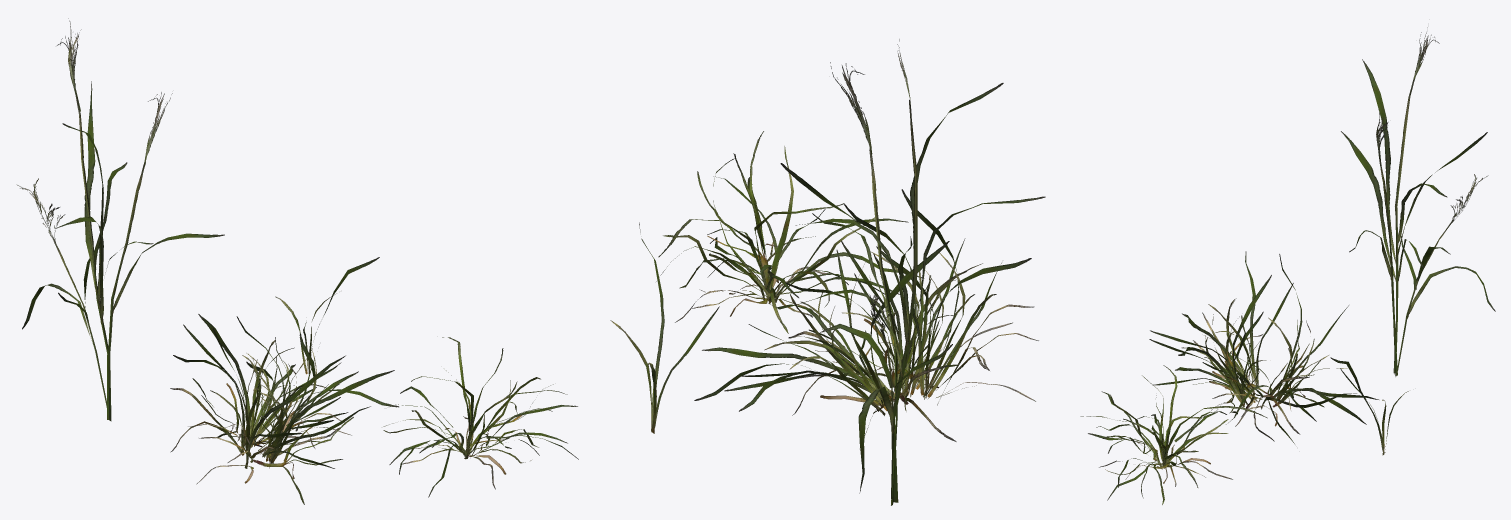
File: grass_medium_01.glb
3 views of the same model, side by side, from view 1: azimuth 30°, elevation 25°; view 2: azimuth 150°, elevation 25°; view 3: azimuth 270°, elevation 25° (orthographic). The views are drawn at different scales.
Visible parts, largest first — view 1: grass_medium_01_tall_a_LOD0; view 2: grass_medium_01_tall_a_LOD0; view 3: grass_medium_01_tall_a_LOD0.
Boxes of the visible parts, bbox=[...] form: grass_medium_01_tall_a_LOD0: bbox=[16, 18, 578, 504]; grass_medium_01_tall_a_LOD0: bbox=[610, 39, 1045, 505]; grass_medium_01_tall_a_LOD0: bbox=[1080, 27, 1495, 504].
Bounding box in the file's own units: 0.3493 × 0.3542 × 0.3666.
Materials: 1 (1 with a texture image).
